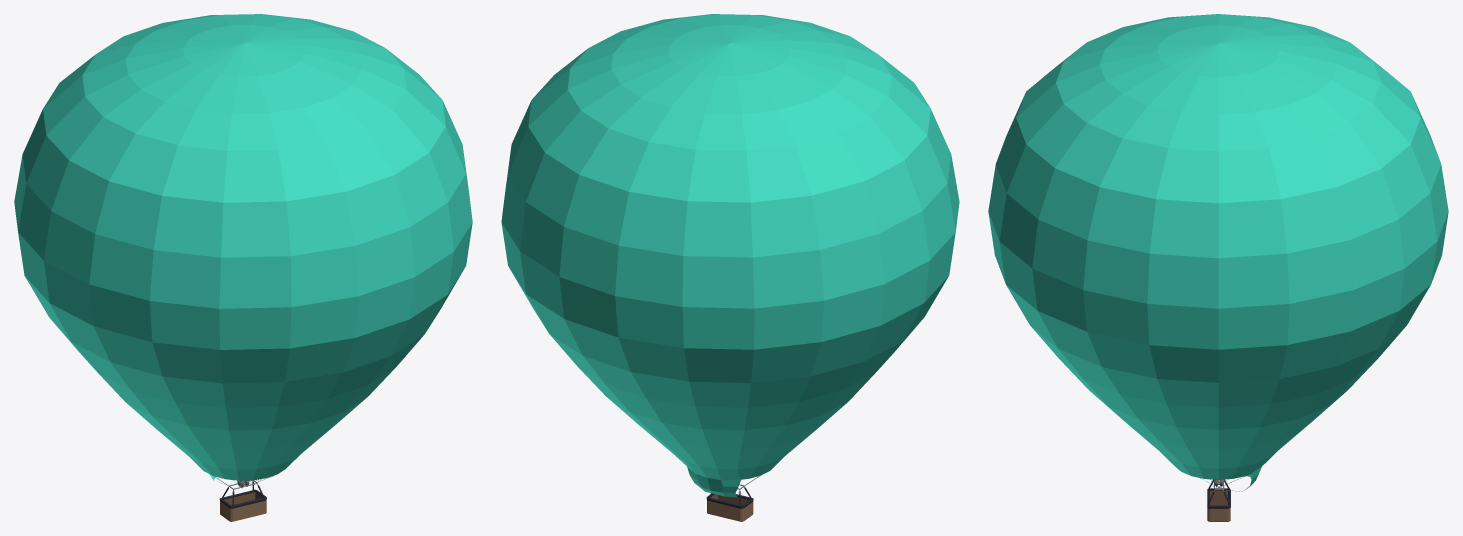
Rendered from HotAirBallon_Big_05.fbx.
The picture shows the model from 3 angles, left to right: view 1: azimuth 30°, elevation 25°; view 2: azimuth 150°, elevation 25°; view 3: azimuth 270°, elevation 25°; orthographic projection.
Parts seen in each view (by area): view 1: HotAirBallon_Big_05; view 2: HotAirBallon_Big_05; view 3: HotAirBallon_Big_05.
Boxes of the visible parts, box(x1,y1,x2,y2) form: HotAirBallon_Big_05: box(14, 14, 472, 521); HotAirBallon_Big_05: box(501, 14, 959, 521); HotAirBallon_Big_05: box(988, 14, 1448, 521).
Bounding box in the file's own units: 32.13 × 36.26 × 32.13.
